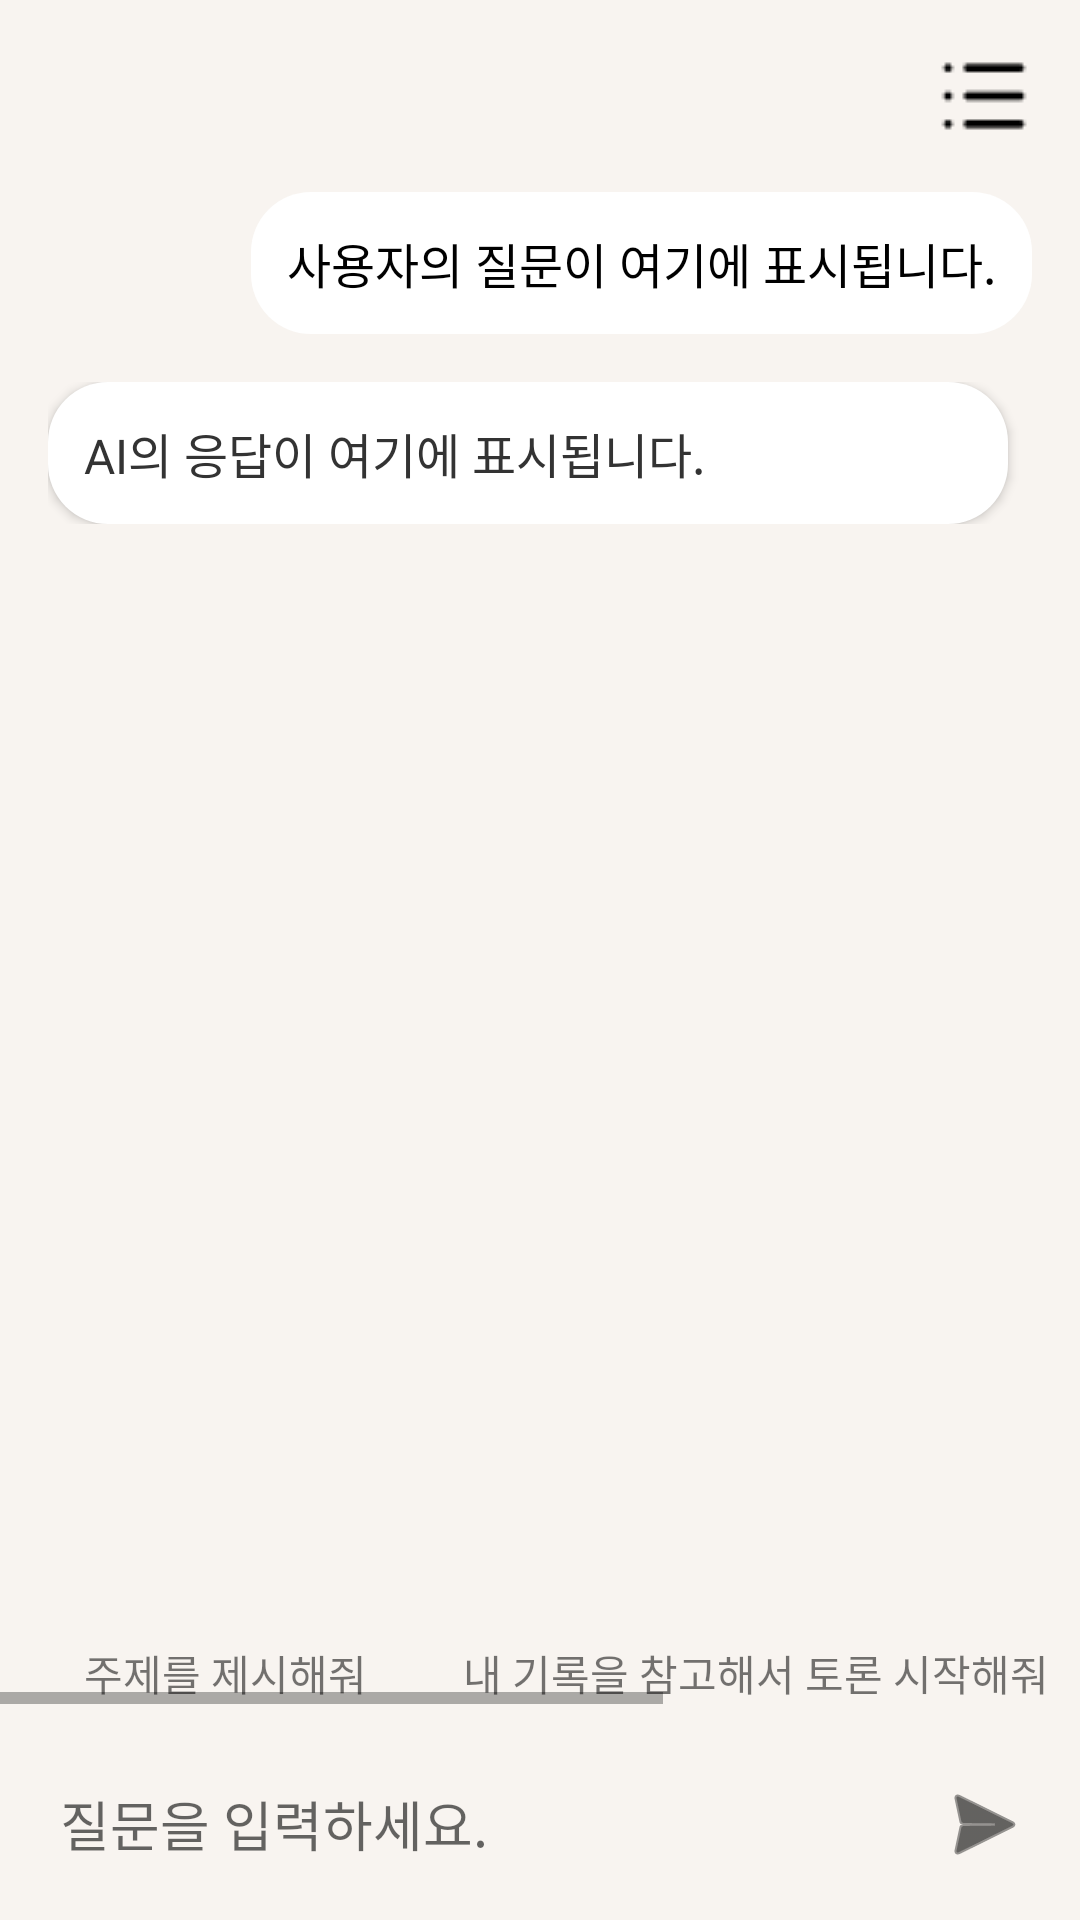

Screen size 1080px x 1920px. Icon name, then its center in pixels as (x=x, y=y):
list: (x=984, y=96)
전송: (x=985, y=1824)
